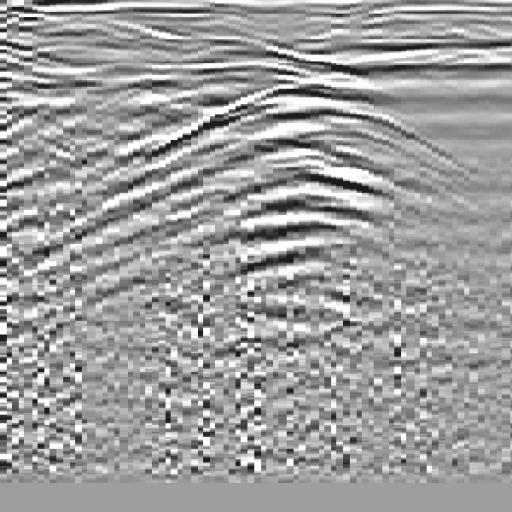metalic: (134, 52, 504, 320)
